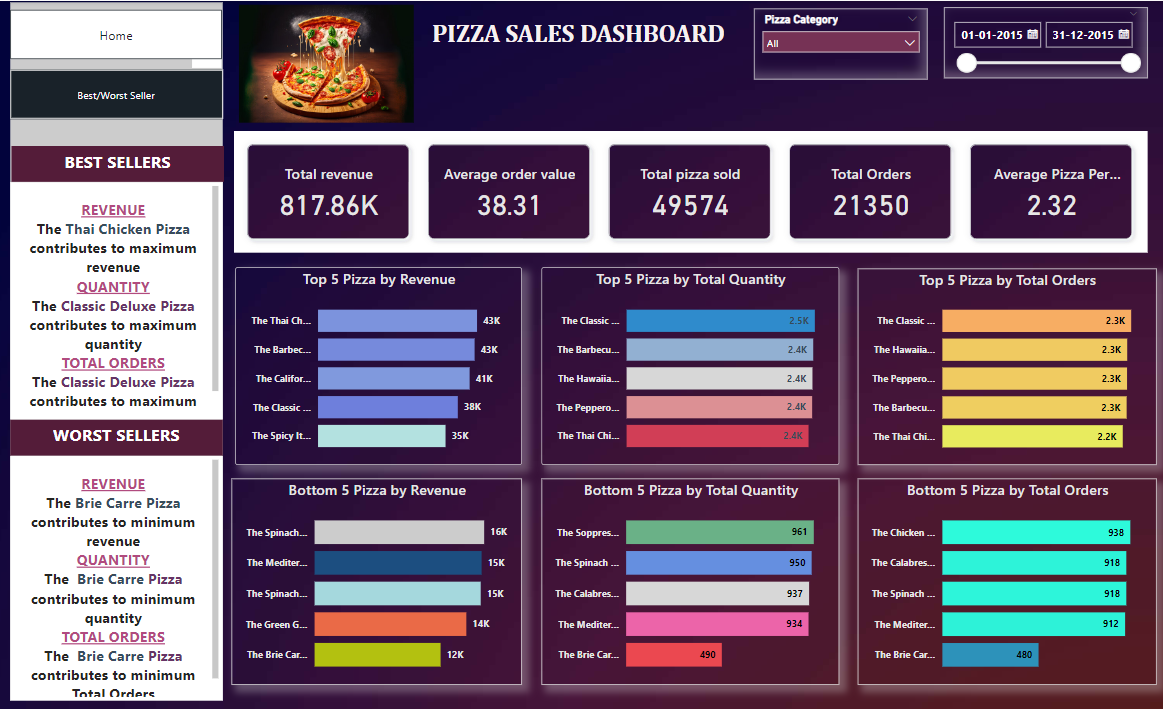

Layout of this report page (visuals, bound fields, positions):
{"tool":"powerbi","page":{"name":"Best/Worst Seller","canvas":[1510,920],"ordinal":1},"visuals":[{"type":"cardVisual","fields":{"Data":["pizza_sales.Total revenue","pizza_sales.Average order value","pizza_sales.Total pizza sold","pizza_sales.Total Orders","pizza_sales.Average Pizza Per Order"]},"box":[303.9,168.8,1183.5,157.6],"z":0},{"type":"textbox","box":[12.9,0,1474.6,88.4],"z":1000},{"type":"textbox","box":[14.5,1.6,275,903.7],"z":2000},{"type":"textbox","box":[16.1,188.1,275,46.6],"z":3000},{"type":"textbox","box":[14.5,234.8,275,307.1],"z":4000},{"type":"textbox","box":[14.5,541.9,275,46.6],"z":5000},{"type":"textbox","box":[14.5,588.6,275,316.8],"z":6000},{"type":"slicer","fields":{"Values":["pizza_sales.pizza_category"]},"box":[977.7,9.6,225.1,91.7],"z":7000},{"type":"slicer","fields":{"Values":["pizza_sales.order_date"]},"box":[1223.7,8,263.7,91.7],"z":8000},{"type":"pageNavigator","box":[14.5,88.4,275,64.3],"z":9000},{"type":"image","box":[305.5,0,236.4,162.4],"z":10000},{"type":"barChart","title":"Top 5 Pizza by Revenue","fields":{"Category":["pizza_sales.pizza_name"],"Y":["pizza_sales.Total revenue"]},"box":[305.5,344.1,371.5,255.7],"z":11000},{"type":"barChart","title":"Top 5 Pizza by Total Quantity","fields":{"Category":["pizza_sales.pizza_name"],"Y":["pizza_sales.Total pizza sold"]},"box":[702.7,344.1,385.9,255.7],"z":12000},{"type":"barChart","title":"Top 5 Pizza by Total Orders","fields":{"Category":["pizza_sales.pizza_name"],"Y":["pizza_sales.Total Orders"]},"box":[1112.1,346.4,386.9,254.1],"z":13000},{"type":"barChart","title":"Bottom 5 Pizza by Revenue","fields":{"Category":["pizza_sales.pizza_name"],"Y":["pizza_sales.Total revenue"]},"box":[300.7,619.1,376.3,266.9],"z":14000},{"type":"barChart","title":"Bottom 5 Pizza by Total Quantity","fields":{"Category":["pizza_sales.pizza_name"],"Y":["pizza_sales.Total pizza sold"]},"box":[702.7,619.1,385.9,266.9],"z":15000},{"type":"barChart","title":"Bottom 5 Pizza by Total Orders","fields":{"Category":["pizza_sales.pizza_name"],"Y":["pizza_sales.Total Orders"]},"box":[1112.1,618.4,386.9,267.1],"z":16000},{"type":"pageNavigator","box":[14.5,11.3,275,64.3],"z":17000}]}

Visuals, with their boxes in screenshot pixels (x1, y1, x2, y2), scaled from the page's 1510x920 canvas onto the 1163x709 screenshot:
cardVisual - pizza_sales.Total revenue x pizza_sales.Average order value: box(234, 130, 1146, 252)
textbox: box(10, 0, 1146, 68)
textbox: box(11, 1, 223, 698)
textbox: box(12, 145, 224, 181)
textbox: box(11, 181, 223, 418)
textbox: box(11, 418, 223, 454)
textbox: box(11, 454, 223, 698)
slicer - pizza_sales.pizza_category: box(753, 7, 926, 78)
slicer - pizza_sales.order_date: box(942, 6, 1146, 77)
pageNavigator: box(11, 68, 223, 118)
image: box(235, 0, 417, 125)
"Top 5 Pizza by Revenue" barChart: box(235, 265, 521, 462)
"Top 5 Pizza by Total Quantity" barChart: box(541, 265, 838, 462)
"Top 5 Pizza by Total Orders" barChart: box(857, 267, 1155, 463)
"Bottom 5 Pizza by Revenue" barChart: box(232, 477, 521, 683)
"Bottom 5 Pizza by Total Quantity" barChart: box(541, 477, 838, 683)
"Bottom 5 Pizza by Total Orders" barChart: box(857, 477, 1155, 682)
pageNavigator: box(11, 9, 223, 58)
